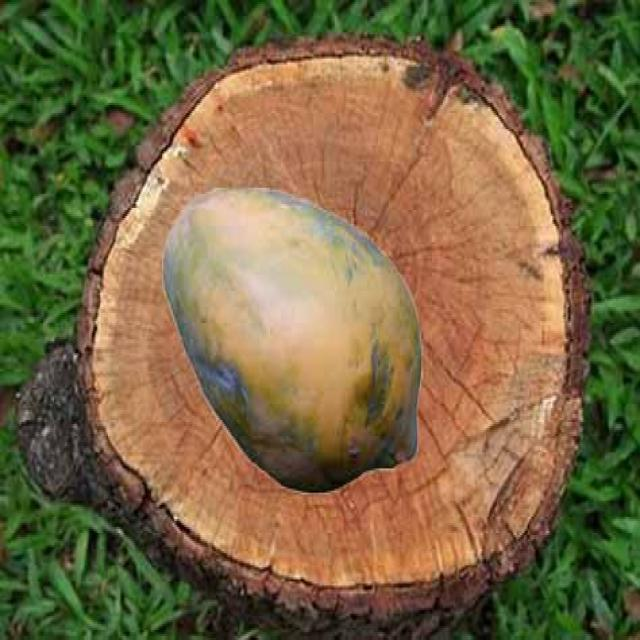Pepaya rippen: (162, 186, 428, 497)
